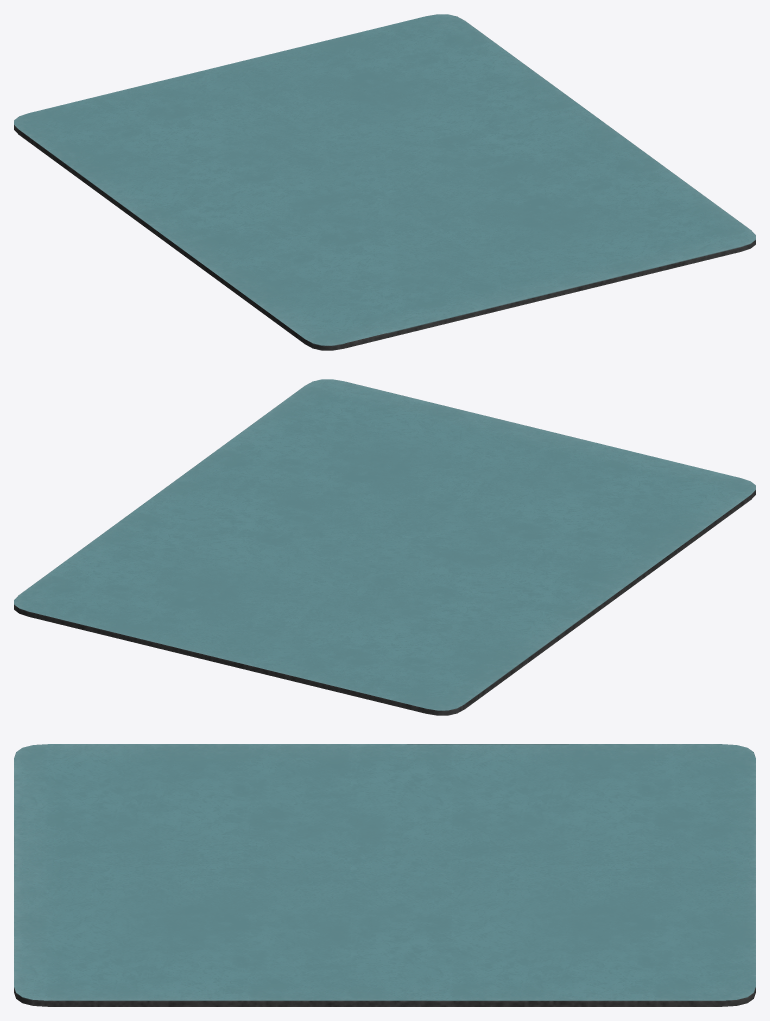
File: SM_MousePad_01.fbx
3 renders of one model, top to bottom at view 1: azimuth 30°, elevation 25°; view 2: azimuth 150°, elevation 25°; view 3: azimuth 270°, elevation 25°, orthographic. The views are drawn at different scales.
Parts seen in each view (by area): view 1: SM_MousePad_01_LOD0; view 2: SM_MousePad_01_LOD0; view 3: SM_MousePad_01_LOD0.
Part boxes in pixels (x1,y1,x2,y2): SM_MousePad_01_LOD0: (14, 14, 755, 350); SM_MousePad_01_LOD0: (14, 379, 755, 715); SM_MousePad_01_LOD0: (14, 744, 755, 1006).
Bounding box in the file's own units: 18 × 22 × 0.2.
